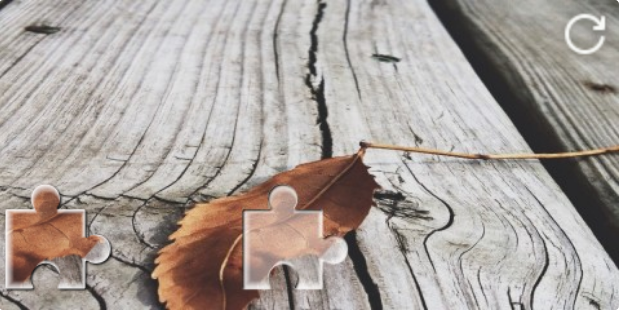target: (243, 185, 347, 291)
